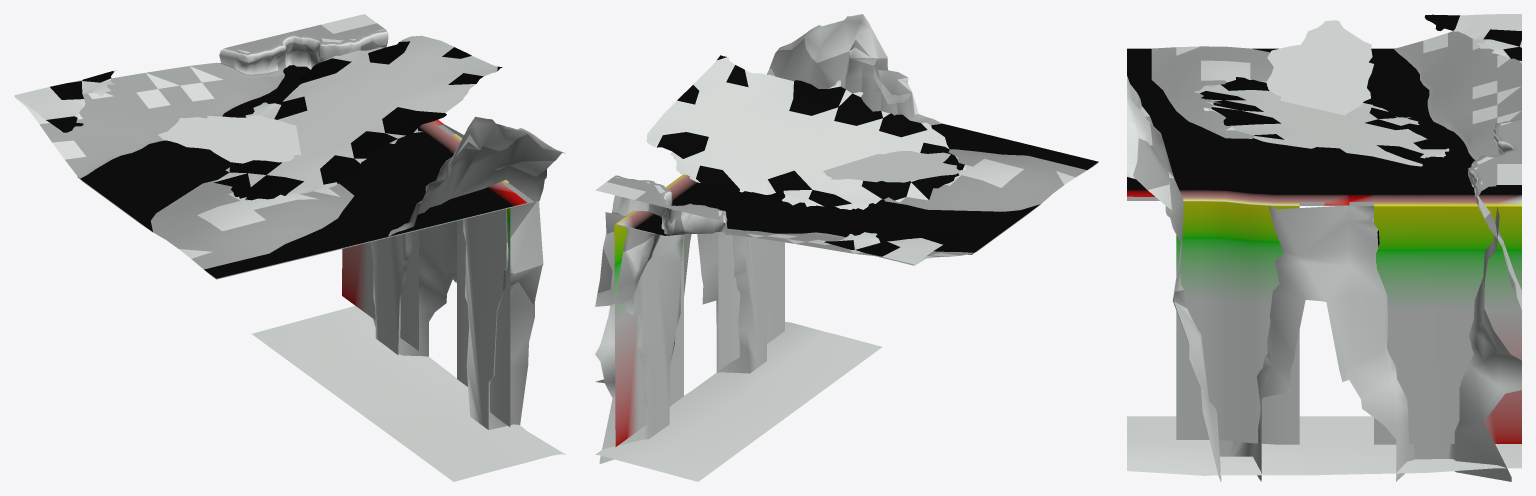
3 renders of one model, left to right at view 1: azimuth 30°, elevation 25°; view 2: azimuth 150°, elevation 25°; view 3: azimuth 270°, elevation 25°, orthographic. The views are drawn at different scales.
Parts seen in each view (by area): view 1: G:\FFXIV-MapTools\exports\d2f2\bg\ex1\02_dra_d2\fld\d2f2\bgp (×15); view 2: G:\FFXIV-MapTools\exports\d2f2\bg\ex1\02_dra_d2\fld\d2f2\bgp (×11); view 3: G:\FFXIV-MapTools\exports\d2f2\bg\ex1\02_dra_d2\fld\d2f2\bgp (×13).
Part boxes in pixels (x1=…): G:\FFXIV-MapTools\exports\d2f2\bg\ex1\02_dra_d2\fld\d2f2\bgp (×15): x1=14, y1=14, x2=565, y2=481; G:\FFXIV-MapTools\exports\d2f2\bg\ex1\02_dra_d2\fld\d2f2\bgp (×11): x1=595, y1=14, x2=1098, y2=481; G:\FFXIV-MapTools\exports\d2f2\bg\ex1\02_dra_d2\fld\d2f2\bgp (×13): x1=1127, y1=14, x2=1521, y2=481.
Size of the model in its own units: 128 by 130 by 128.
